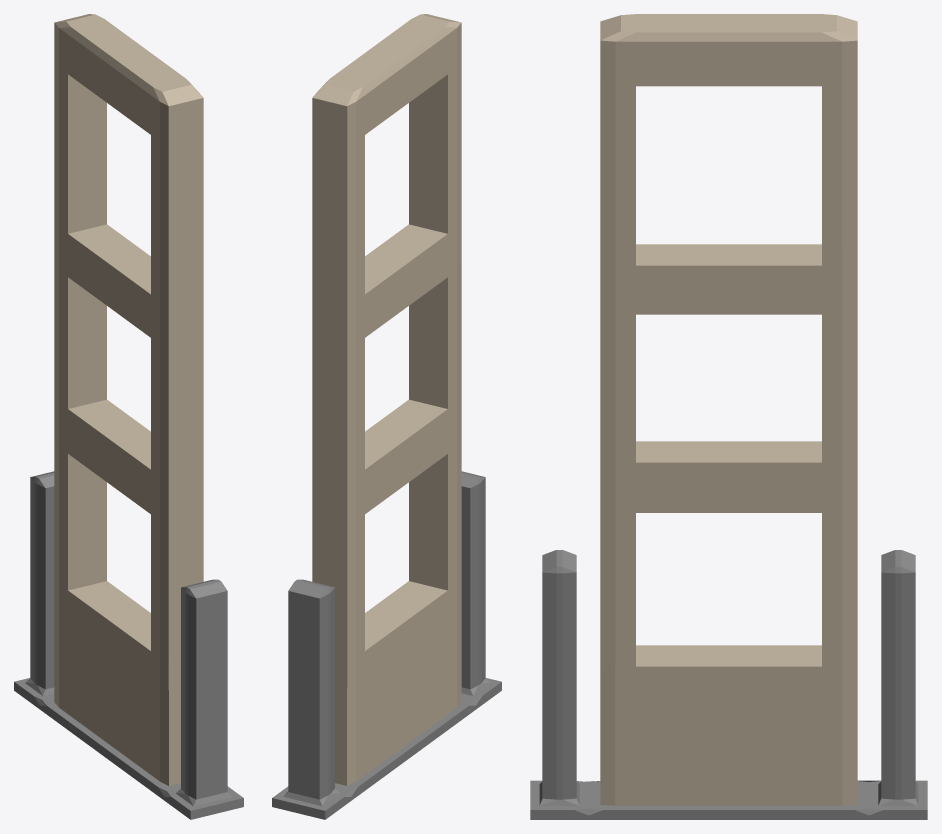
The model's file is Scanner.fbx.
3 views of the same model, side by side, from view 1: azimuth 30°, elevation 25°; view 2: azimuth 150°, elevation 25°; view 3: azimuth 270°, elevation 25° (orthographic). The views are drawn at different scales.
Visible parts, largest first — view 1: Scanner; view 2: Scanner; view 3: Scanner.
Boxes of the visible parts, x1,y1,x2,y2 form: Scanner: (14,14,243,819); Scanner: (272,14,501,819); Scanner: (530,14,927,819).
Size of the model in its own units: 103 by 1295 by 596.
